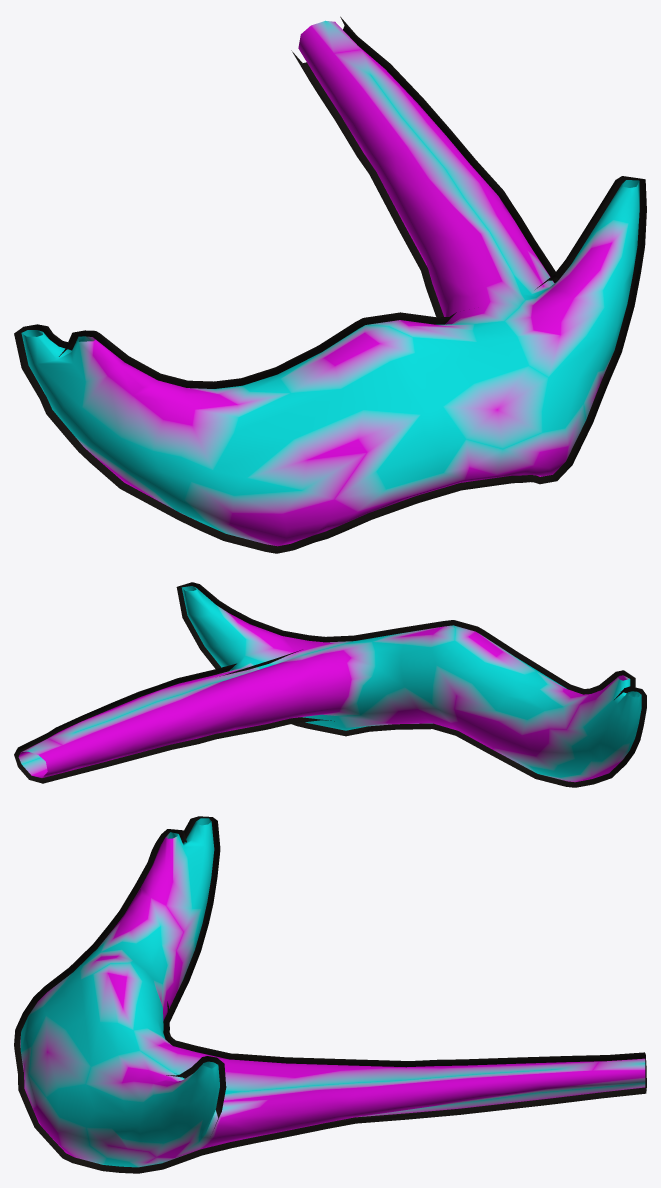
Rendered from beard_moustache_male_hi.glb.
3 views of the same model, one above another, from view 1: azimuth 30°, elevation 25°; view 2: azimuth 150°, elevation 25°; view 3: azimuth 270°, elevation 25° (orthographic). The views are drawn at different scales.
Parts seen in each view (by area): view 1: beard_moustache_male_hi; view 2: beard_moustache_male_hi; view 3: beard_moustache_male_hi.
Part boxes in pixels (x1=…): beard_moustache_male_hi: x1=14, y1=16, x2=646, y2=553; beard_moustache_male_hi: x1=14, y1=582, x2=646, y2=787; beard_moustache_male_hi: x1=14, y1=816, x2=646, y2=1173.
Bounding box in the file's own units: 0.3361 × 0.1052 × 0.352.
